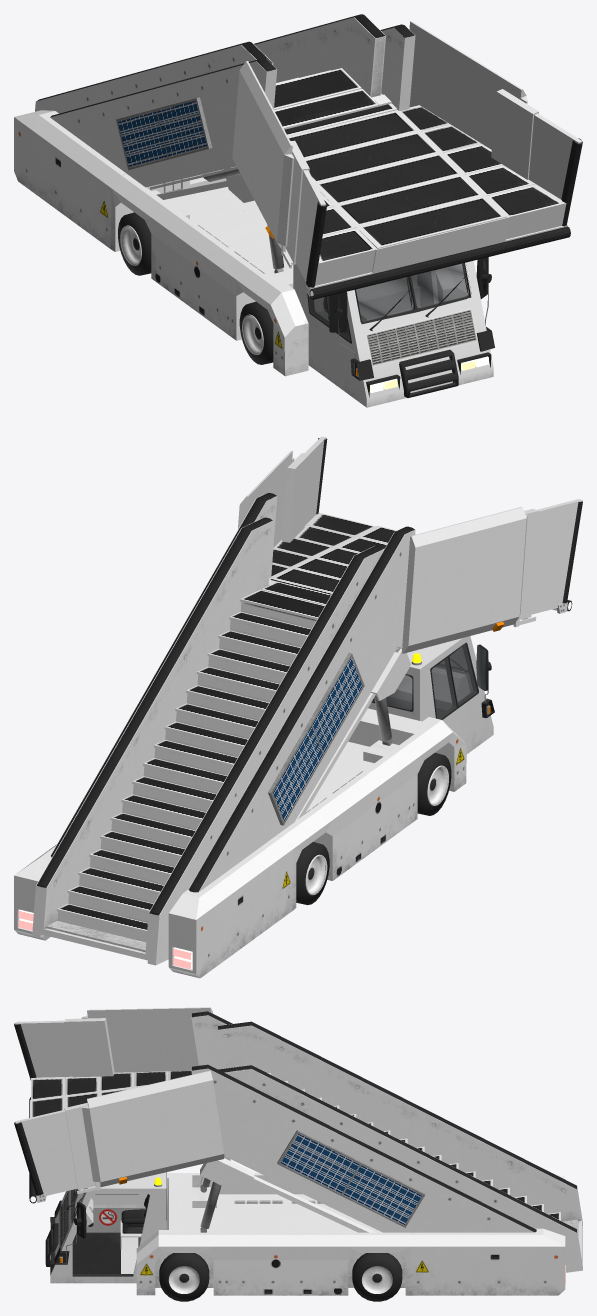
Rendered from ASO_Boarding_Stairs_LOD02.gltf.
3 renders of one model, top to bottom at view 1: azimuth 30°, elevation 25°; view 2: azimuth 150°, elevation 25°; view 3: azimuth 270°, elevation 25°, orthographic. The views are drawn at different scales.
Visible parts, largest first — view 1: Ramp_End, ASO_Boarding_Stairs, Ramp_Start, W1_R, W2; view 2: Ramp_Start, Ramp_End, ASO_Boarding_Stairs, W1_R, W2; view 3: Ramp_End, ASO_Boarding_Stairs, Ramp_Start, W2, W1_L, Piston2.
Part boxes in pixels (box(x1,y1,x2,y2)): Ramp_End: box(50, 21, 582, 299); ASO_Boarding_Stairs: box(14, 110, 494, 407); Ramp_Start: box(35, 14, 391, 202); W1_R: box(239, 301, 273, 364); W2: box(118, 212, 151, 275); Ramp_Start: box(32, 517, 410, 965); Ramp_End: box(50, 436, 582, 892); ASO_Boarding_Stairs: box(14, 636, 494, 978); W1_R: box(417, 752, 451, 815); W2: box(296, 842, 329, 904); Ramp_End: box(14, 1007, 536, 1232); ASO_Boarding_Stairs: box(45, 1172, 565, 1295); Ramp_Start: box(200, 1021, 582, 1272); W2: box(352, 1253, 402, 1301); W1_L: box(159, 1253, 209, 1301); Piston2: box(200, 1178, 221, 1228).
Size of the model in its own units: 3.76 by 3.94 by 8.9.
